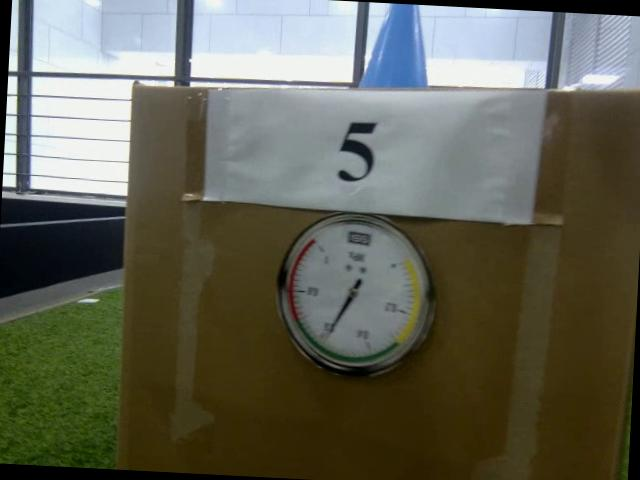5: (338, 117, 386, 185)
Dashboard: (270, 209, 439, 382)
blue_barrel: (356, 2, 436, 90)
ssi: (346, 230, 375, 246)
